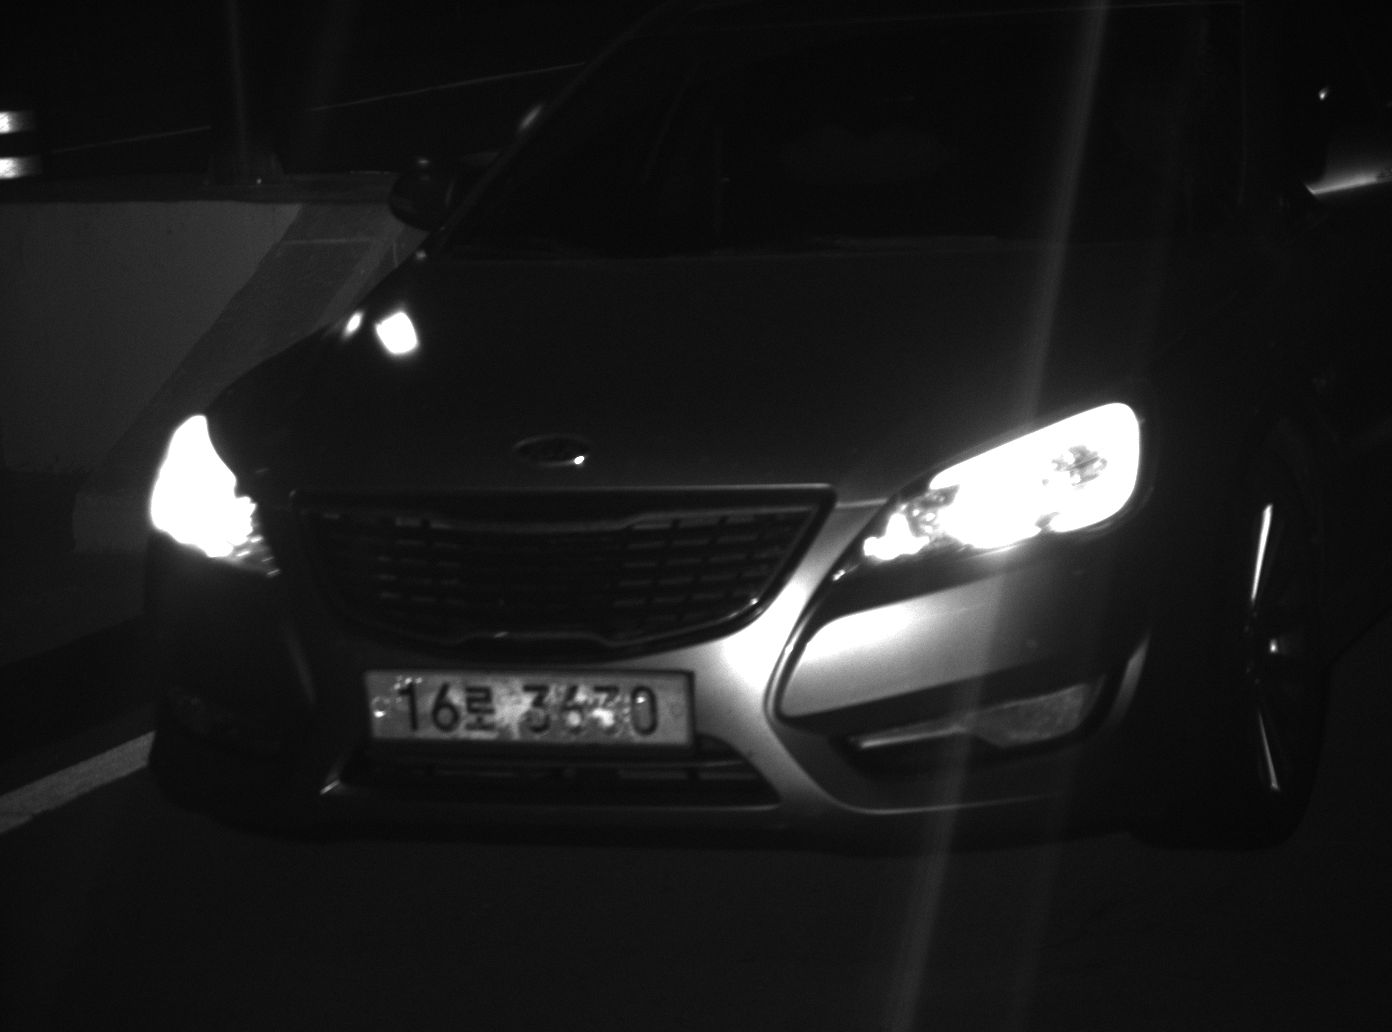car: (135, 10, 1387, 858)
plate: (355, 661, 699, 752)
